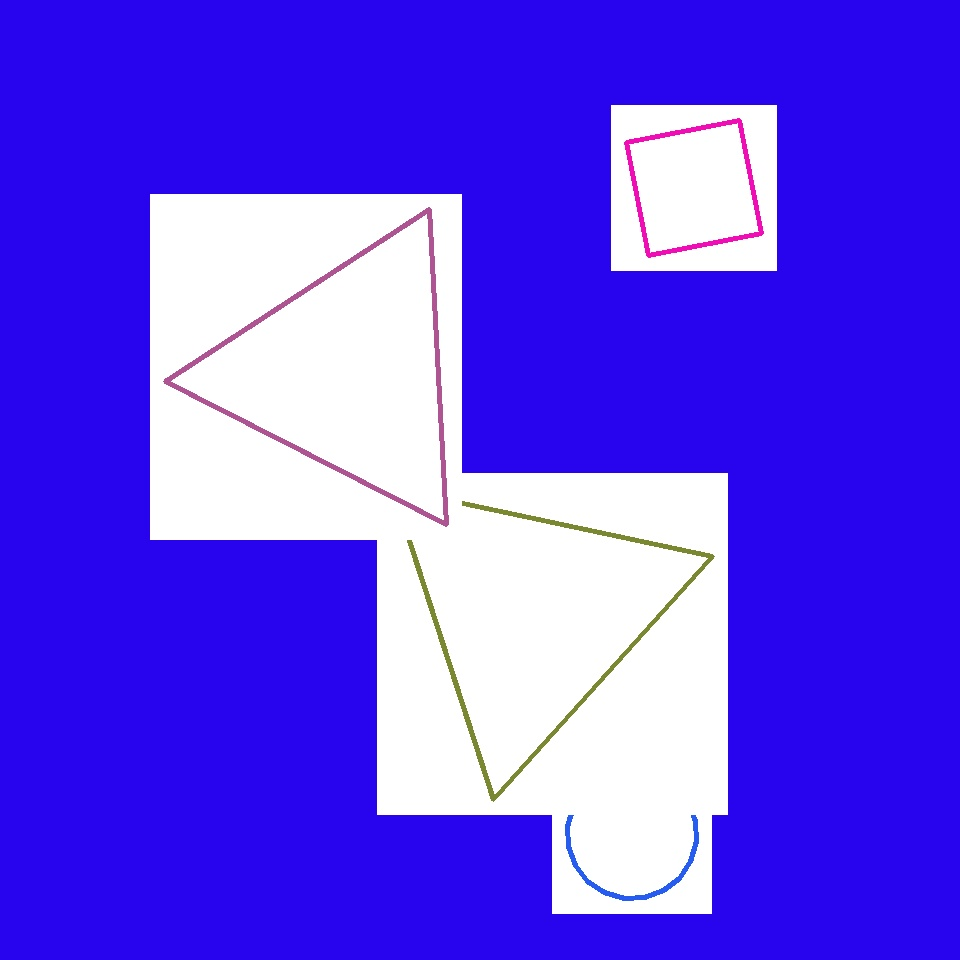circle: (373, 460, 693, 770), (206, 214, 488, 530), (185, 446, 394, 664), (488, 444, 582, 534)
square: (314, 400, 590, 676), (626, 120, 762, 255)
triangle: (507, 648, 751, 892), (438, 710, 640, 910), (568, 770, 696, 898)
